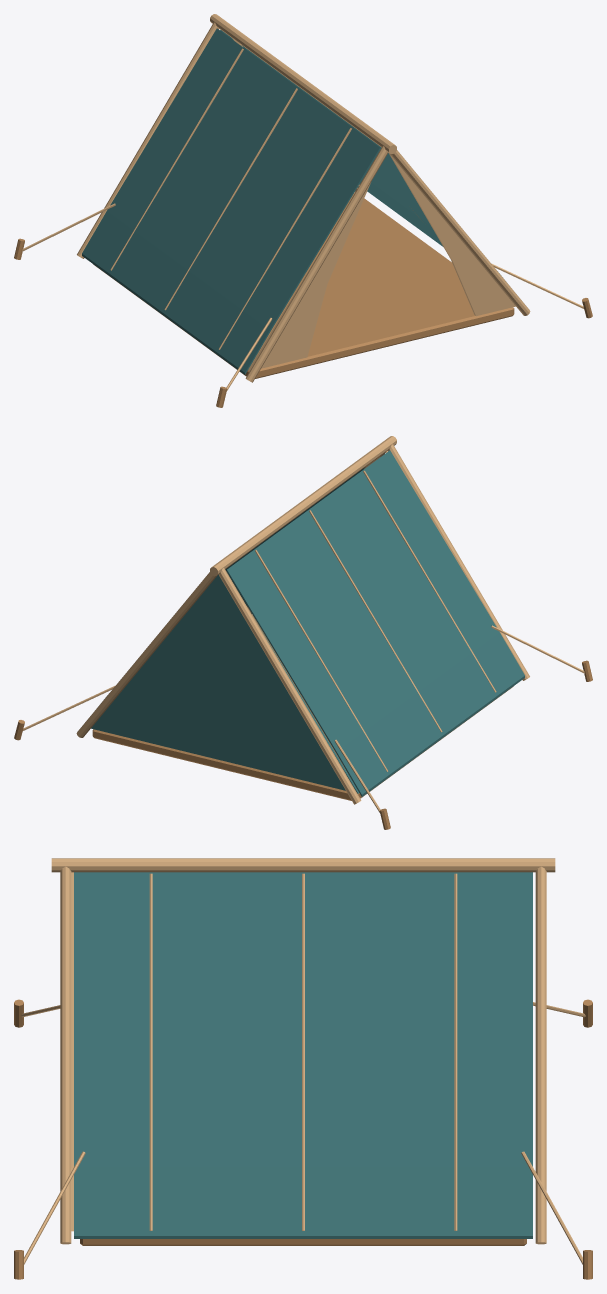
The picture shows the model from 3 angles, top to bottom: view 1: azimuth 30°, elevation 25°; view 2: azimuth 150°, elevation 25°; view 3: azimuth 270°, elevation 25°; orthographic projection. The views are drawn at different scales.
Visible parts, largest first — view 1: camping-tent-01; view 2: camping-tent-01; view 3: camping-tent-01.
Part boxes in pixels (x1,y1,x2,y2): camping-tent-01: (14,14,592,407); camping-tent-01: (14,436,592,829); camping-tent-01: (14,858,592,1279).
Bounding box in the file's own units: 3.01 × 1.62 × 2.85.
